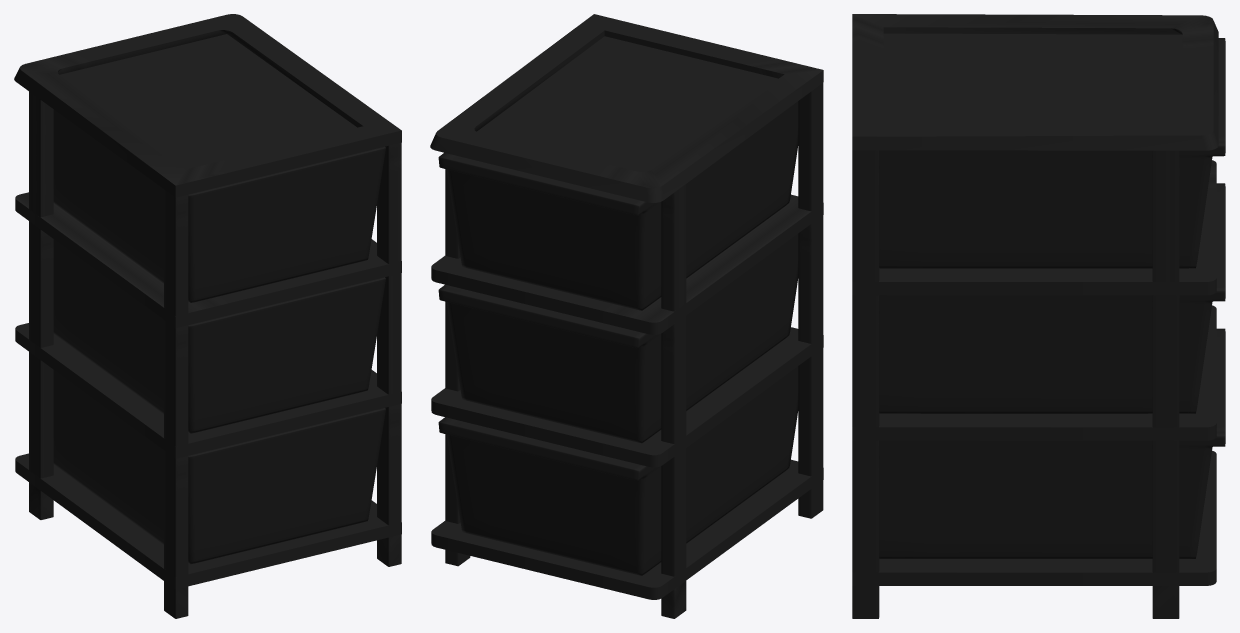
File: Drawer27.glb
3 views of the same model, side by side, from view 1: azimuth 30°, elevation 25°; view 2: azimuth 150°, elevation 25°; view 3: azimuth 270°, elevation 25° (orthographic). The views are drawn at different scales.
Visible parts, largest first — view 1: Drawer28_Body, Drawer28_2, Drawer28_3, Drawer28_1; view 2: Drawer28_Body, Drawer28_3, Drawer28_2, Drawer28_1; view 3: Drawer28_Body, Drawer28_3, Drawer28_2, Drawer28_1.
Boxes of the visible parts, box(x1,y1,x2,y2) form: Drawer28_Body: box(14, 14, 401, 618); Drawer28_2: box(53, 239, 385, 433); Drawer28_3: box(53, 370, 385, 563); Drawer28_1: box(53, 109, 385, 302); Drawer28_Body: box(430, 14, 823, 618); Drawer28_3: box(438, 366, 798, 575); Drawer28_2: box(438, 234, 798, 443); Drawer28_1: box(438, 101, 798, 310); Drawer28_Body: box(852, 14, 1218, 618); Drawer28_3: box(879, 328, 1225, 558); Drawer28_2: box(879, 183, 1225, 413); Drawer28_1: box(879, 38, 1225, 268).
Size of the model in its own units: 0.746 by 1.35 by 0.9492.
2 materials, 2 textured.
